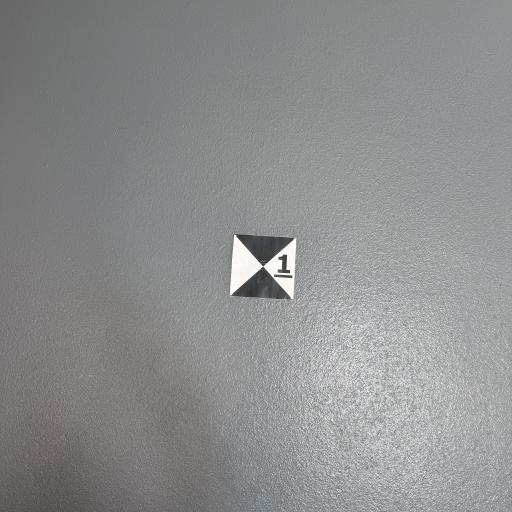target1: (231, 226, 305, 306)
